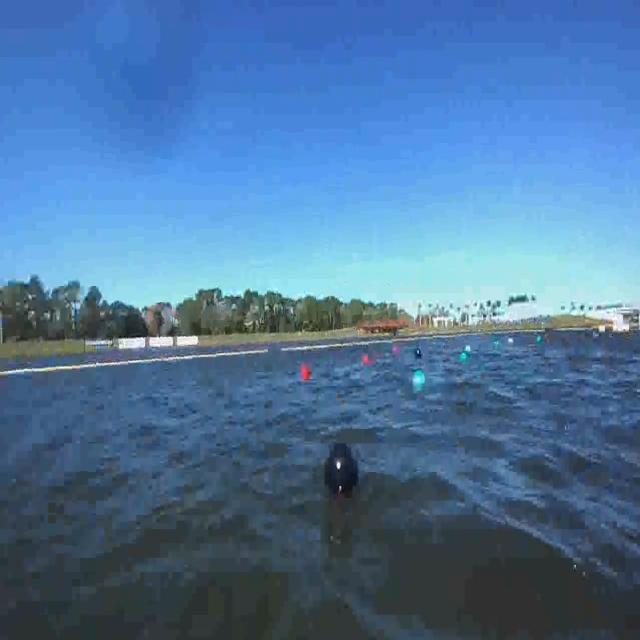black-buoy: (327, 445, 359, 498), (413, 345, 422, 358)
green-buoy: (414, 369, 426, 386), (458, 350, 466, 362)
red-buoy: (302, 364, 310, 379), (362, 352, 370, 363)
